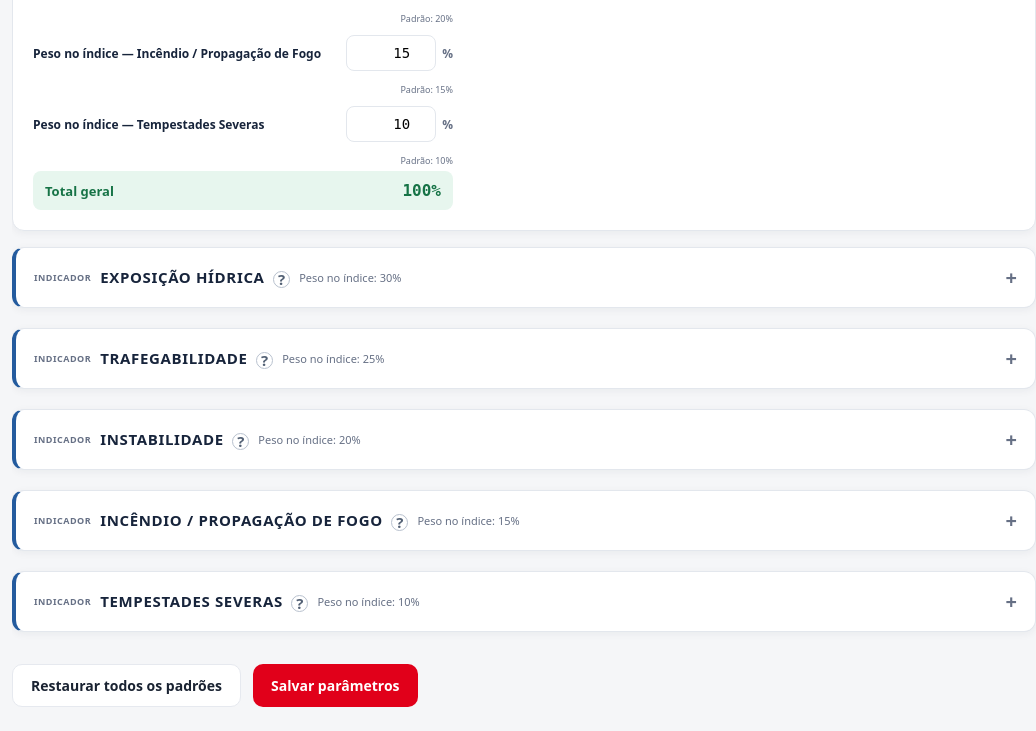
Scenario: tela Riscos e Score › exibe os fatores de ativação da Instabilidade como decimais, sem sinal de %
(page scrolled)
Click the heading "Instabilidade": click(175, 440) [100,430,249,450]
(page scrolled)
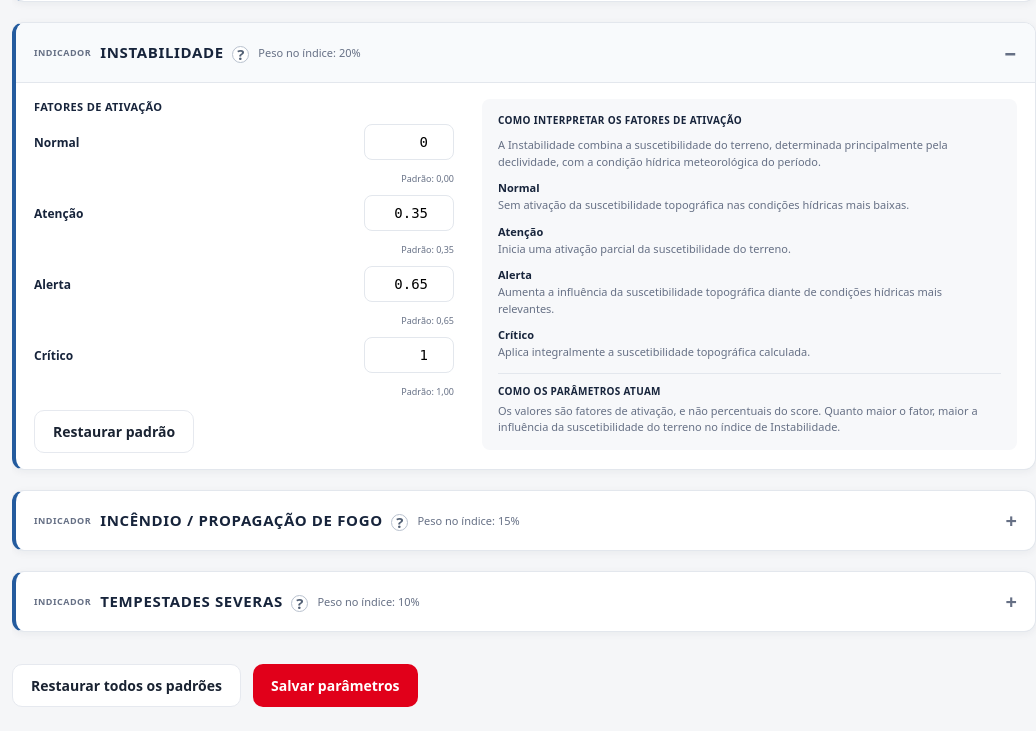
Now the number field labelled "Normal" holds "0", box [364,124,454,160]
Now the number field labelled "Atenção" holds "0.35", box [364,195,454,231]
Now the number field labelled "Alerta" holds "0.65", box [364,266,454,302]
